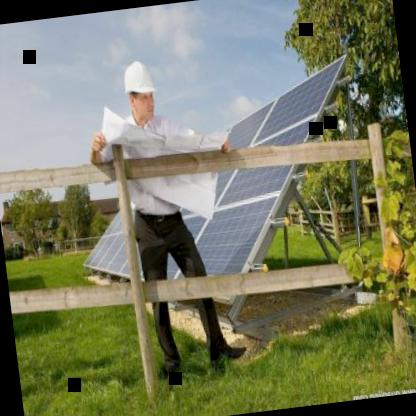helmet: (118, 52, 162, 132)
